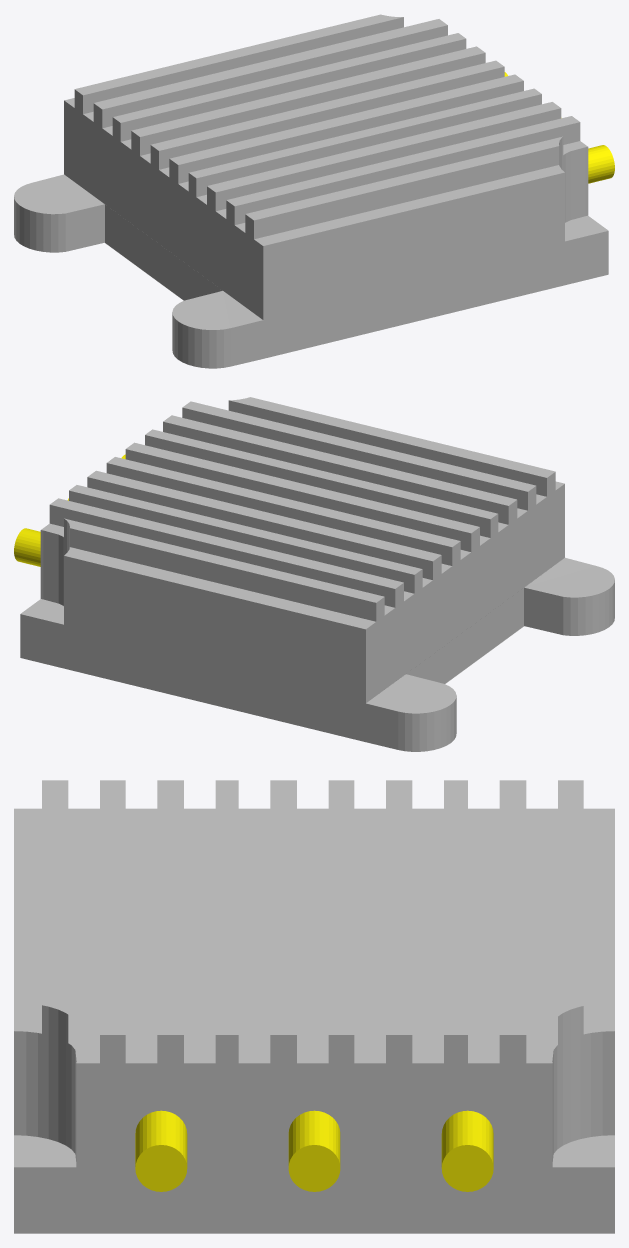
The model's file is mobilicom.dae.
The picture shows the model from 3 angles, top to bottom: view 1: azimuth 30°, elevation 25°; view 2: azimuth 150°, elevation 25°; view 3: azimuth 270°, elevation 25°; orthographic projection. The views are drawn at different scales.
Visible parts, largest first — view 1: Cube, Cylinder; view 2: Cube, Cylinder; view 3: Cube, Cylinder.
Part boxes in pixels (x1,y1,x2,y2): Cube: [14, 14, 608, 368]; Cylinder: [504, 72, 614, 183]; Cube: [20, 397, 614, 751]; Cylinder: [14, 454, 125, 566]; Cube: [14, 780, 614, 1233]; Cylinder: [135, 1110, 493, 1191].
Bounding box in the file's own units: 0.098 × 0.074 × 0.027.
